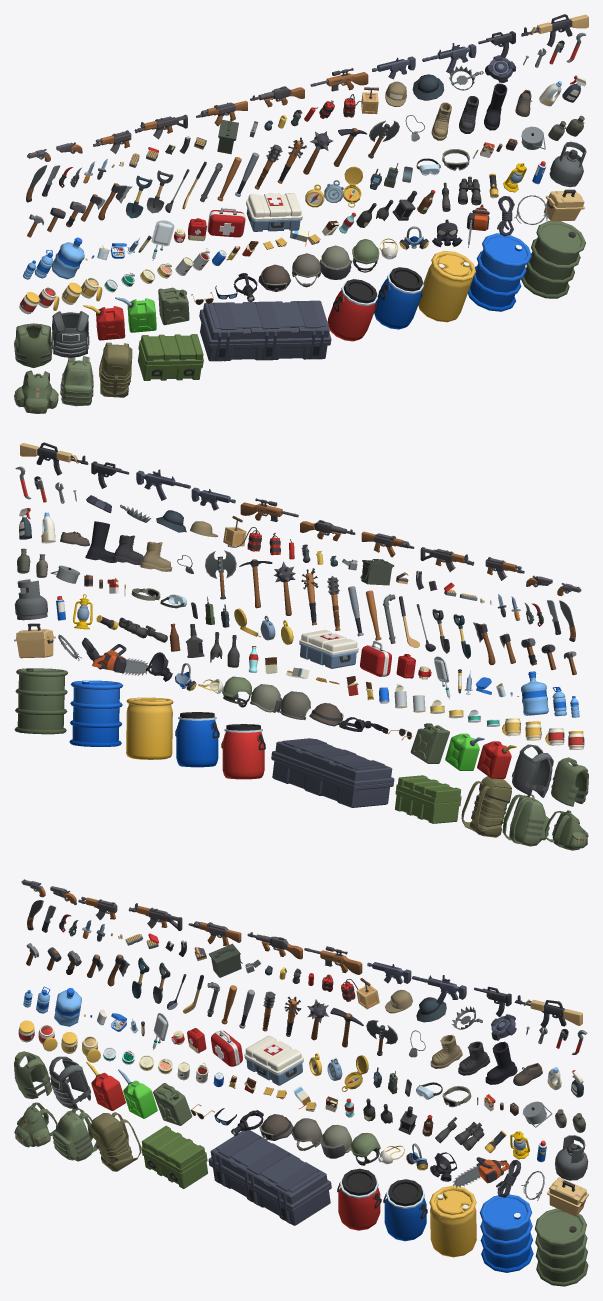
Rendered from 3D_Props_-_Casual_Survival.glb.
The picture shows the model from 3 angles, top to bottom: view 1: azimuth 30°, elevation 25°; view 2: azimuth 150°, elevation 25°; view 3: azimuth 330°, elevation 25°; orthographic projection.
Parts seen in each view (by area): view 1: Box03_ColorA_0, Drum04_ColorA_0, Drum05_ColorA_0, Drum03_ColorA_0, Box02_ColorB_0, Drum01_ColorA_0, Drum02_ColorA_0, First_aid_Kit03_ColorA_0, BulletproofJacket02_ColorA_0, Bag03_ColorA_0, BulletproofJacket01_ColorA_0, Bag02_ColorA_0 (+22 smaller); view 2: Box03_ColorA_0, Drum04_ColorA_0, Drum05_ColorA_0, Drum03_ColorA_0, Box02_ColorB_0, Drum01_ColorA_0, Drum02_ColorA_0, Bag03_ColorA_0, Bag02_ColorA_0, First_aid_Kit03_ColorA_0, BulletproofJacket02_ColorA_0, BulletproofJacket01_ColorA_0 (+20 smaller); view 3: Box03_ColorA_0, Drum04_ColorA_0, Drum05_ColorA_0, Drum03_ColorA_0, Box02_ColorB_0, Drum02_ColorA_0, Drum01_ColorA_0, First_aid_Kit03_ColorA_0, Bag03_ColorA_0, Bag02_ColorA_0, BulletproofJacket02_ColorA_0, Bag01_ColorA_0 (+20 smaller).
Part boxes in pixels (x1,y1,x2,y2): Box03_ColorA_0: (199,300,331,361); Drum04_ColorA_0: (468,233,531,311); Drum05_ColorA_0: (521,221,585,298); Drum03_ColorA_0: (418,250,475,322); Box02_ColorB_0: (138,334,203,380); Drum01_ColorA_0: (327,279,377,341); Drum02_ColorA_0: (374,267,423,329); First_aid_Kit03_ColorA_0: (246,193,302,231); BulletproofJacket02_ColorA_0: (51,311,89,357); Bag03_ColorA_0: (99,342,132,397); BulletproofJacket01_ColorA_0: (14,323,52,367); Bag02_ColorA_0: (60,356,93,406); Box03_ColorA_0: (271,738,394,807); Drum04_ColorA_0: (69,680,123,746); Drum05_ColorA_0: (14,668,67,734); Drum03_ColorA_0: (126,697,173,759); Box02_ColorB_0: (395,775,461,823); Drum01_ColorA_0: (221,724,265,779); Drum02_ColorA_0: (175,712,219,767); Bag03_ColorA_0: (461,776,511,837); Bag02_ColorA_0: (502,794,549,846); First_aid_Kit03_ColorA_0: (299,629,358,668); BulletproofJacket02_ColorA_0: (512,744,553,797); BulletproofJacket01_ColorA_0: (551,757,588,806); Box03_ColorA_0: (208,1130,331,1225); Drum04_ColorA_0: (479,1194,533,1272); Drum05_ColorA_0: (535,1208,588,1286); Drum03_ColorA_0: (429,1185,476,1257); Box02_ColorB_0: (141,1125,207,1188); Drum02_ColorA_0: (383,1179,427,1241); Drum01_ColorA_0: (337,1168,381,1230); First_aid_Kit03_ColorA_0: (244,1035,303,1085); Bag03_ColorA_0: (91,1112,141,1171); Bag02_ColorA_0: (52,1108,97,1161); BulletproofJacket02_ColorA_0: (49,1056,90,1109); Bag01_ColorA_0: (14,1102,57,1147).
Bounding box in the file's own units: 17.02 × 8.11 × 2.36.
Materials: 5 (5 with a texture image).
